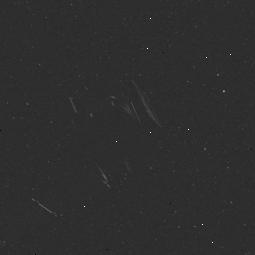earth_observation_sat_1: (66, 76, 153, 136)
